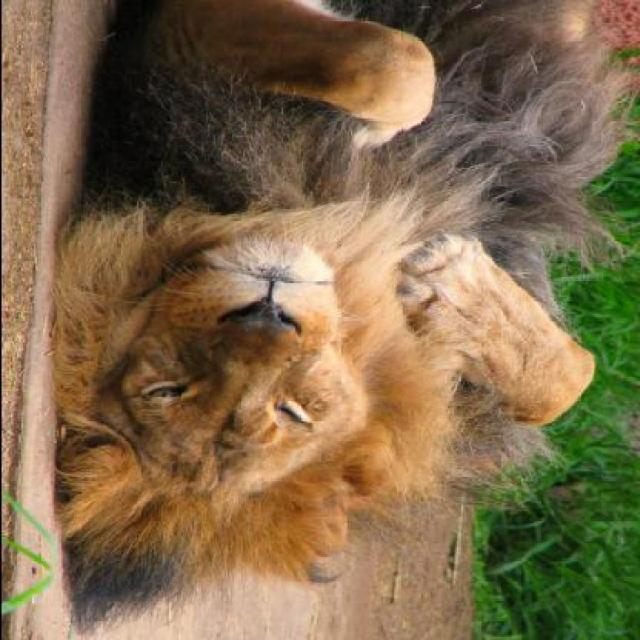Lion: (46, 5, 622, 620)
